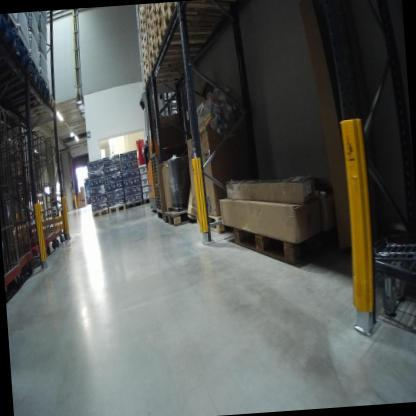forklift: (136, 76, 206, 228)
pallet: (225, 211, 336, 282), (161, 0, 252, 39), (162, 194, 222, 233), (0, 31, 38, 91), (0, 66, 44, 113), (157, 26, 220, 58), (2, 84, 54, 120), (190, 206, 241, 239), (149, 46, 207, 74), (16, 93, 58, 126), (141, 64, 197, 86), (0, 18, 22, 61), (126, 193, 148, 213), (89, 203, 110, 221), (106, 200, 126, 216), (154, 16, 165, 45), (153, 5, 164, 31), (147, 19, 157, 47), (147, 38, 158, 61), (138, 25, 148, 46), (138, 33, 149, 52), (144, 192, 156, 209), (140, 49, 151, 67), (140, 43, 150, 62), (141, 60, 152, 77), (137, 15, 146, 33), (146, 9, 155, 25), (147, 3, 154, 19), (139, 7, 146, 22), (138, 4, 145, 14)
stillage: (151, 156, 166, 224)
